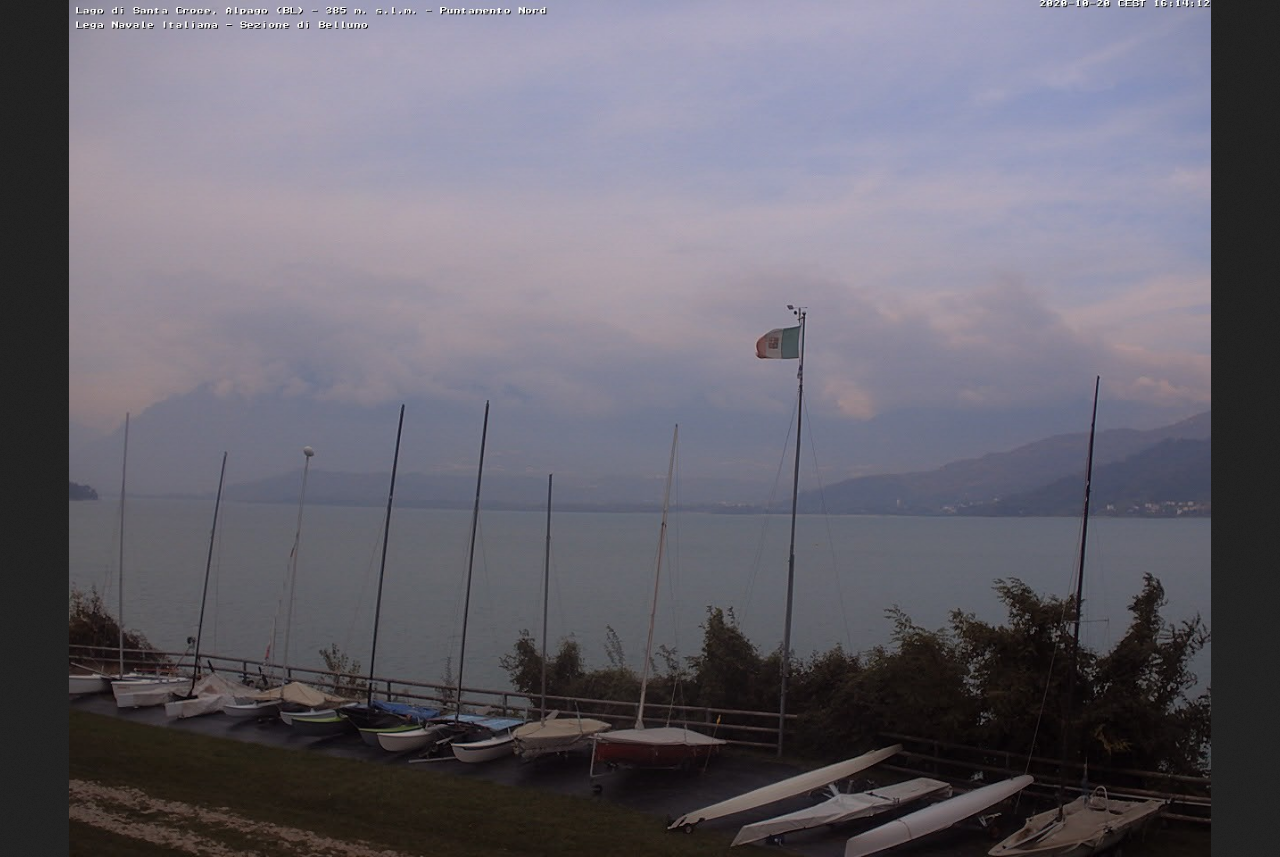yes: (751, 320, 807, 365)
